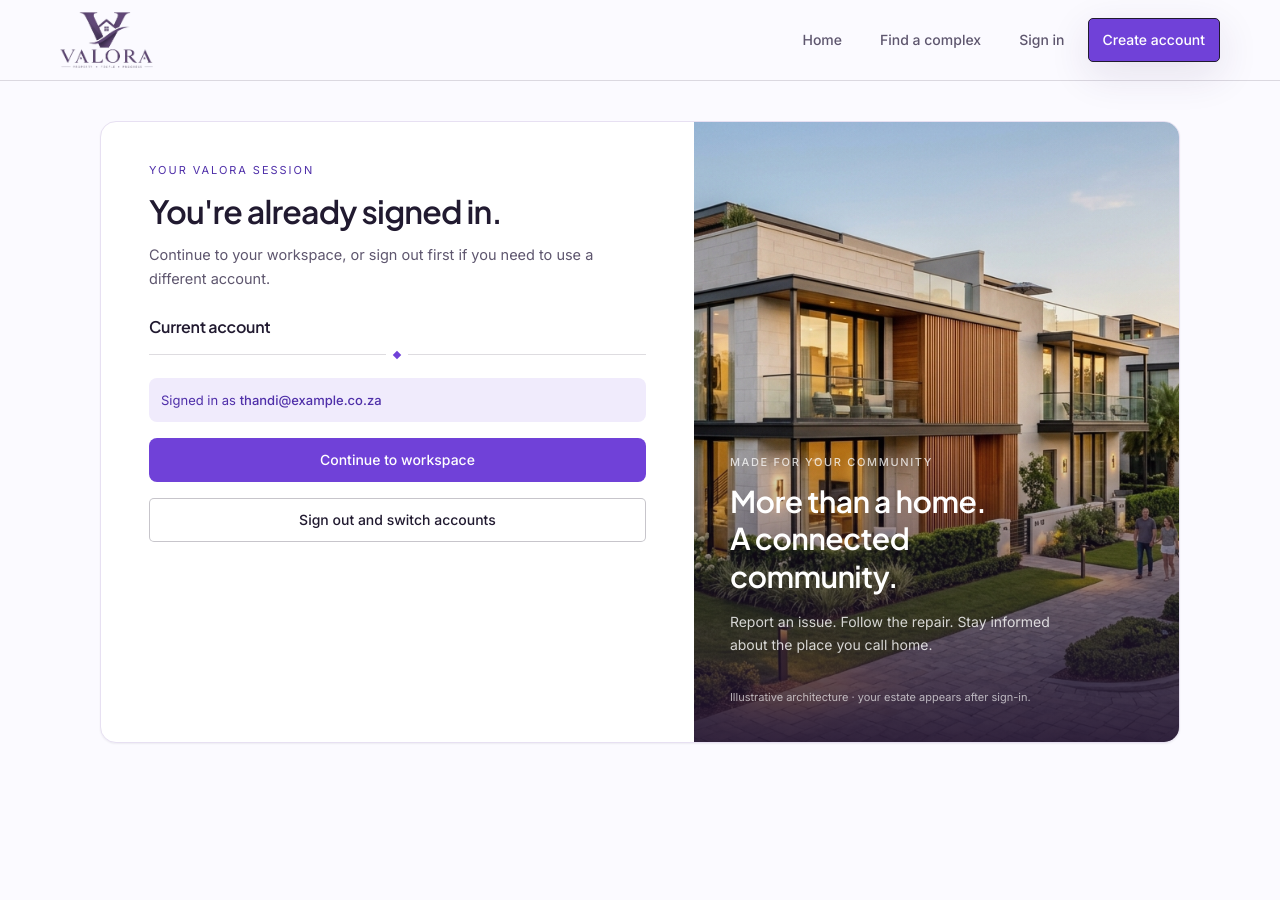
Test: Login › keeps the sign-in route open for an existing session and offers account switching
Expected: the message reads "Signed in as thandi@example.co.za", [149,378,646,422]
Click the button "Sign out and switch accounts" at (397, 520), box [149,498,646,542]
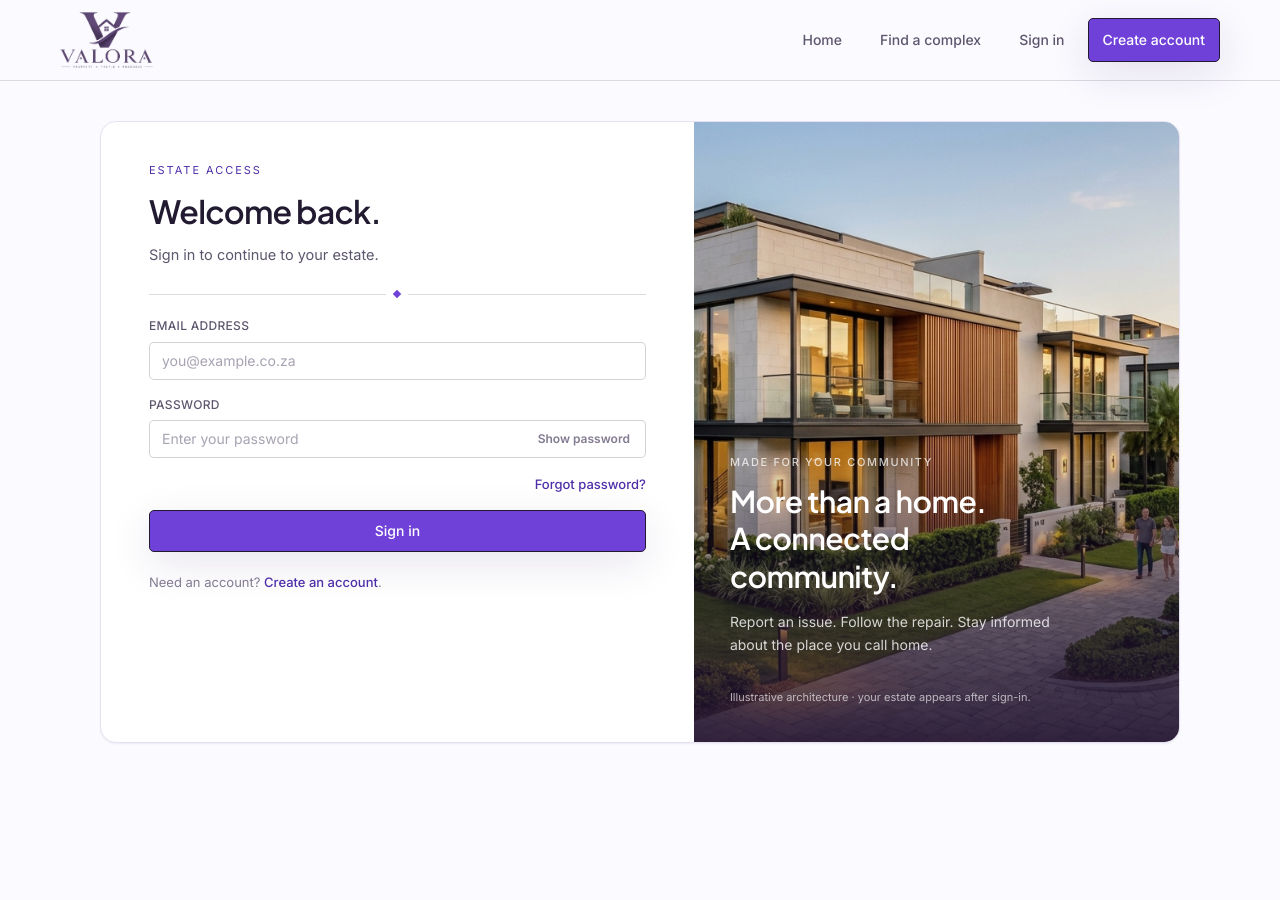
Now the field labelled "Email address" is shown, box [149,342,646,380]
